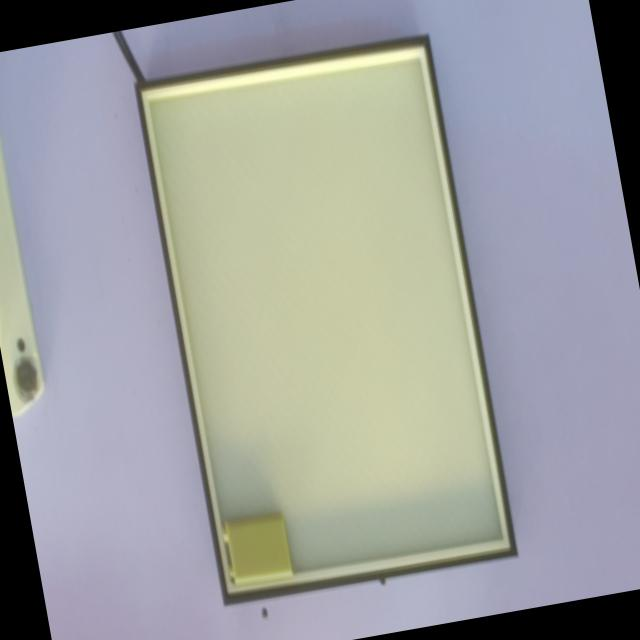bateria: (220, 510, 294, 585)
mesa: (133, 35, 517, 606)
